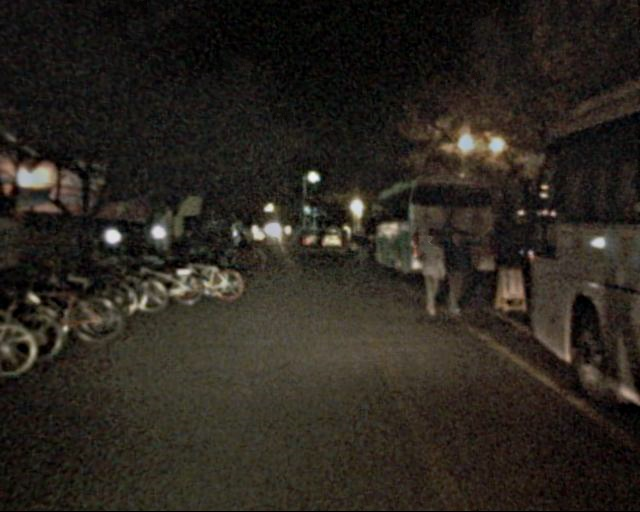person: (412, 231, 448, 320), (437, 228, 473, 316), (350, 224, 373, 279)
